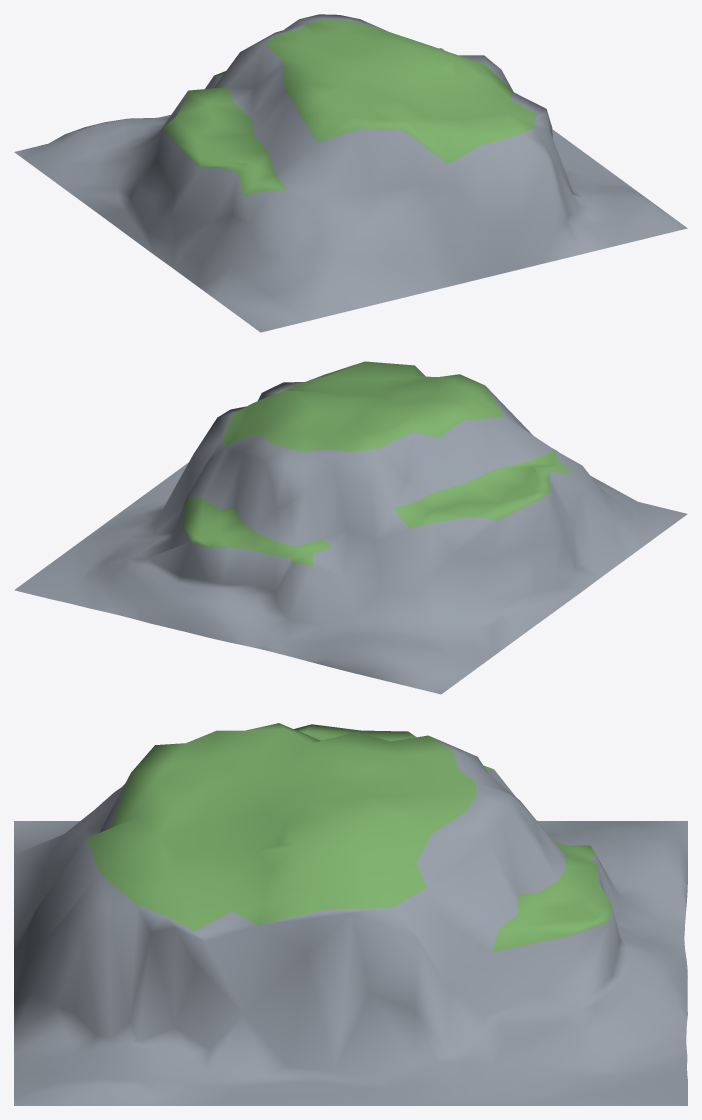
The model's file is SM_Cliffs_08.obj.
The picture shows the model from 3 angles, top to bottom: view 1: azimuth 30°, elevation 25°; view 2: azimuth 150°, elevation 25°; view 3: azimuth 270°, elevation 25°; orthographic projection. The views are drawn at different scales.
Parts seen in each view (by area): view 1: SM_Cliffs_08; view 2: SM_Cliffs_08; view 3: SM_Cliffs_08.
Boxes of the visible parts, bbox=[...] form: SM_Cliffs_08: bbox=[14, 14, 687, 332]; SM_Cliffs_08: bbox=[14, 361, 687, 694]; SM_Cliffs_08: bbox=[14, 723, 687, 1105].
Bounding box in the file's own units: 10.89 × 3.44 × 10.89.
Materials: 1 (1 with a texture image).
